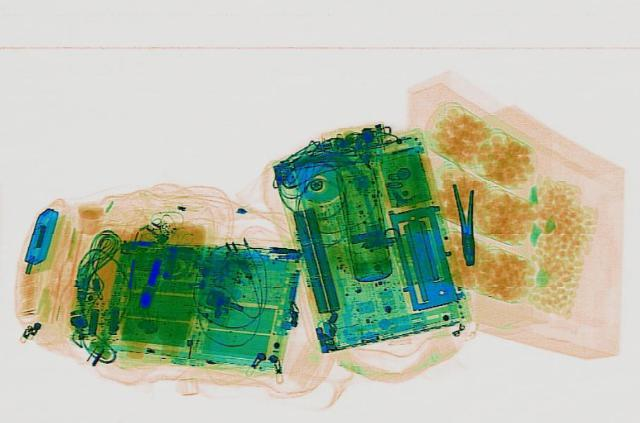Pliers: (450, 181, 482, 264)
